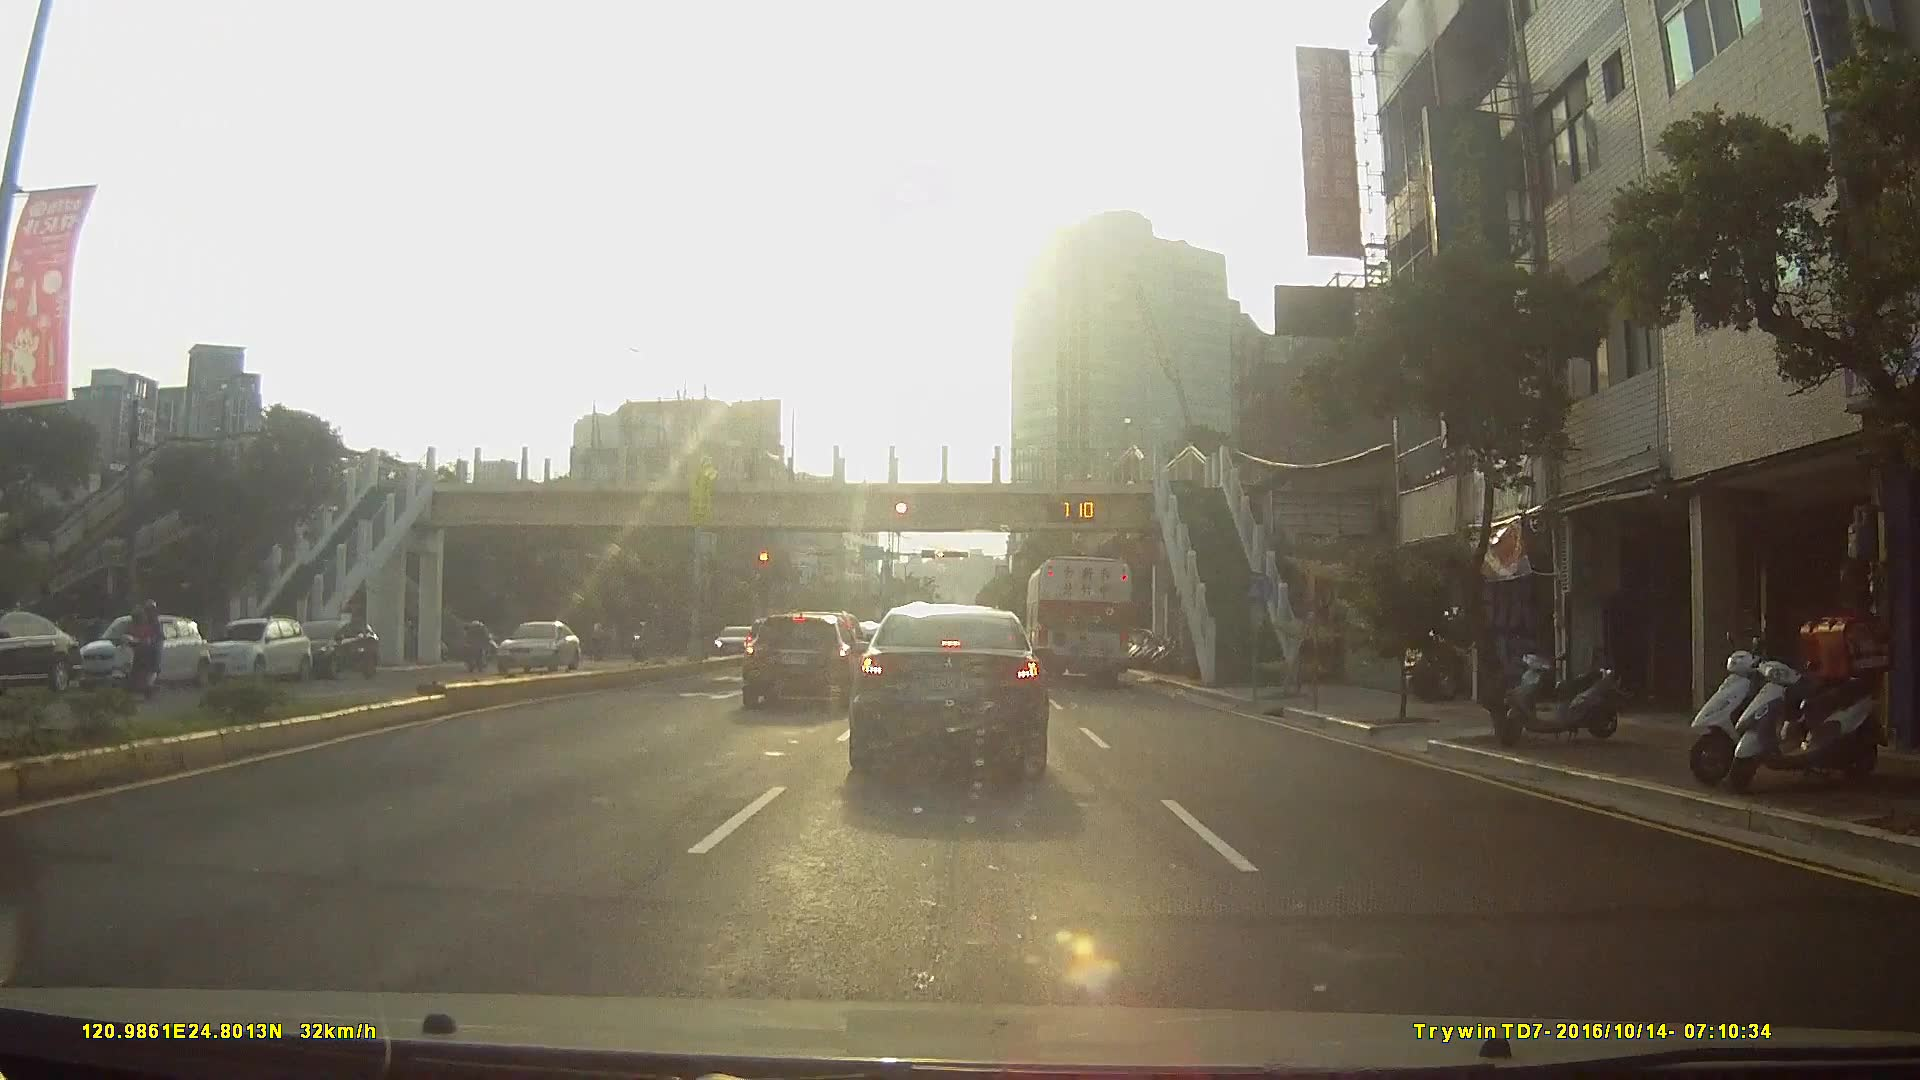rider: (91, 598, 170, 705)
vehicle: (844, 598, 1051, 776), (1024, 549, 1135, 683), (735, 604, 863, 705), (69, 610, 204, 687), (193, 613, 310, 680), (0, 607, 74, 690), (287, 616, 378, 677), (487, 618, 575, 675), (711, 623, 753, 656)
